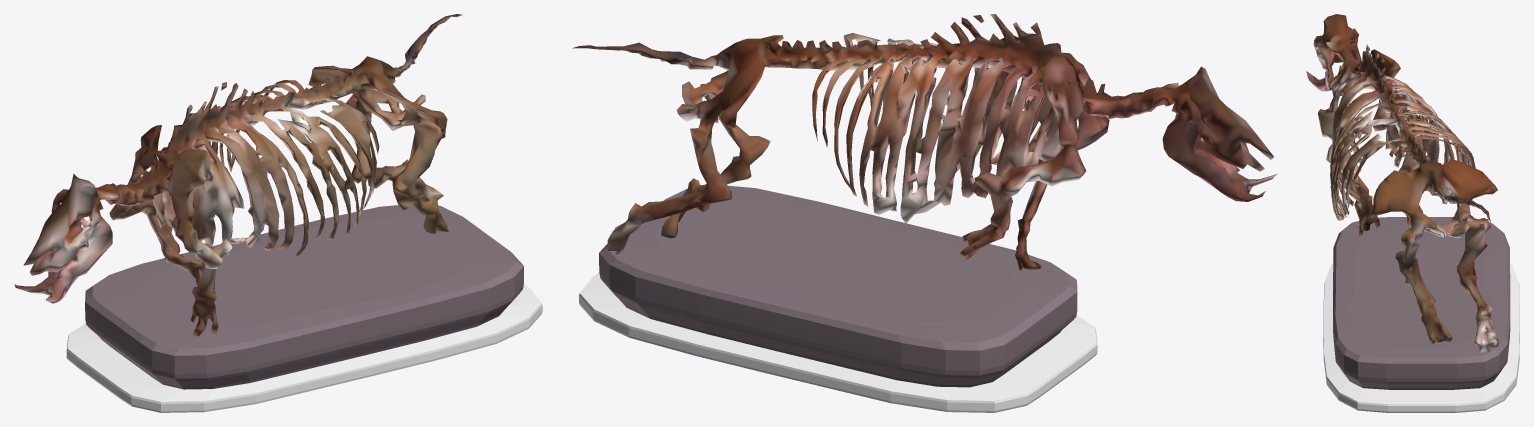
Rendered from DinoConPlataforma.fbx.
3 renders of one model, left to right at view 1: azimuth 30°, elevation 25°; view 2: azimuth 150°, elevation 25°; view 3: azimuth 270°, elevation 25°, orthographic. The views are drawn at different scales.
Parts seen in each view (by area): view 1: Cube.001; view 2: Cube.001; view 3: Cube.001.
Part boxes in pixels (bbox=[...]): Cube.001: bbox=[14, 14, 542, 412]; Cube.001: bbox=[572, 14, 1277, 412]; Cube.001: bbox=[1306, 14, 1519, 412].
Bounding box in the file's own units: 2430 × 1257 × 1031.
